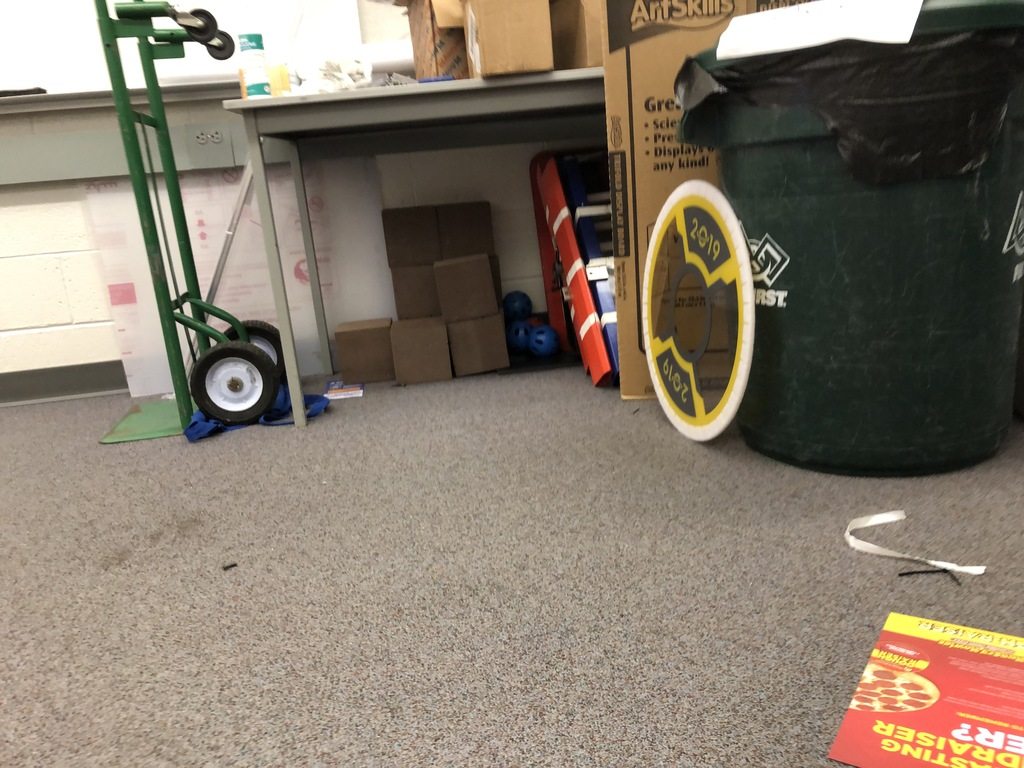hatch_panel: (618, 164, 783, 452)
